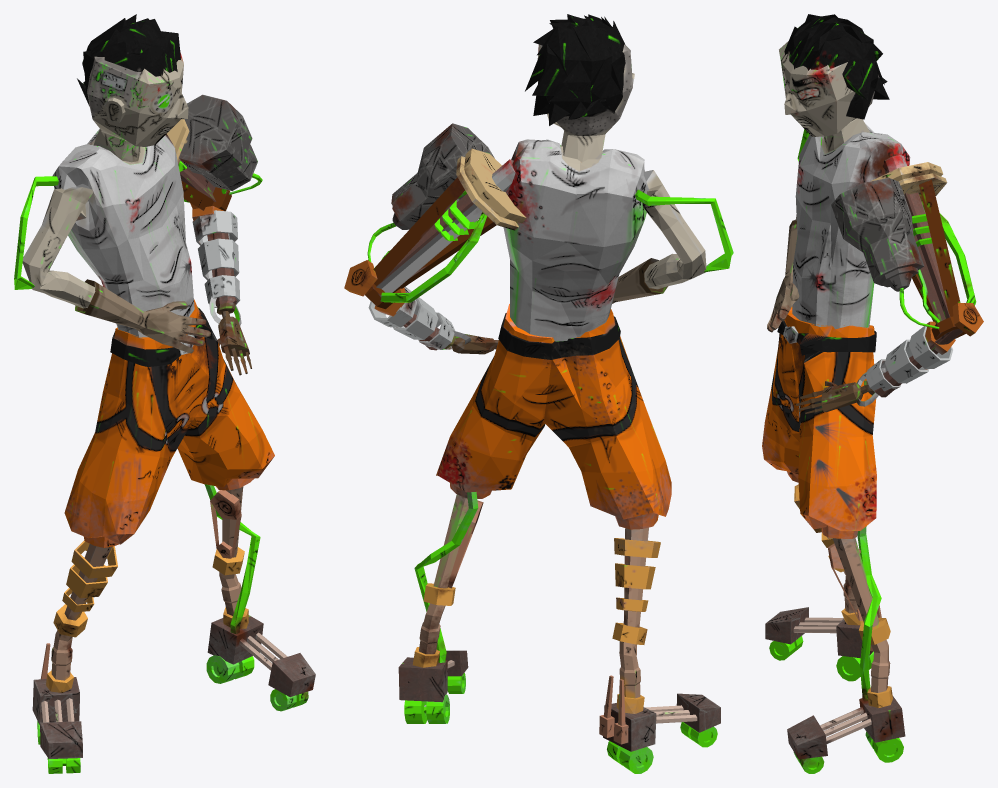
Rendered from CyborgFINALAnimation_000003.obj.
3 views of the same model, side by side, from view 1: azimuth 30°, elevation 25°; view 2: azimuth 150°, elevation 25°; view 3: azimuth 270°, elevation 25° (orthographic). The views are drawn at different scales.
Parts seen in each view (by area): view 1: CyborgMesh_Cube.002; view 2: CyborgMesh_Cube.002; view 3: CyborgMesh_Cube.002.
Boxes of the visible parts, bbox=[...] form: CyborgMesh_Cube.002: bbox=[14, 14, 315, 773]; CyborgMesh_Cube.002: bbox=[344, 14, 733, 773]; CyborgMesh_Cube.002: bbox=[762, 14, 983, 773].
Size of the model in its own units: 4.23 by 9.6 by 2.81.
